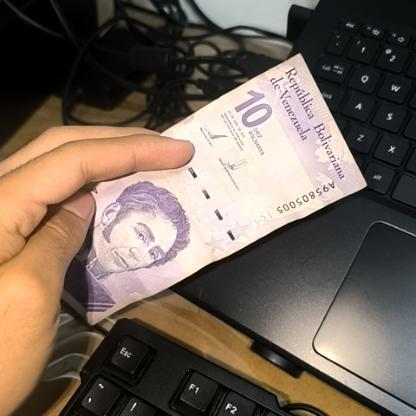ten-front-vef: (83, 50, 369, 327)
